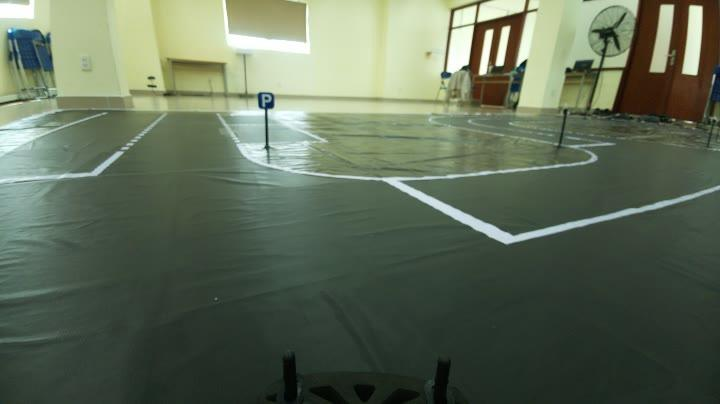parking: (255, 86, 274, 111)
